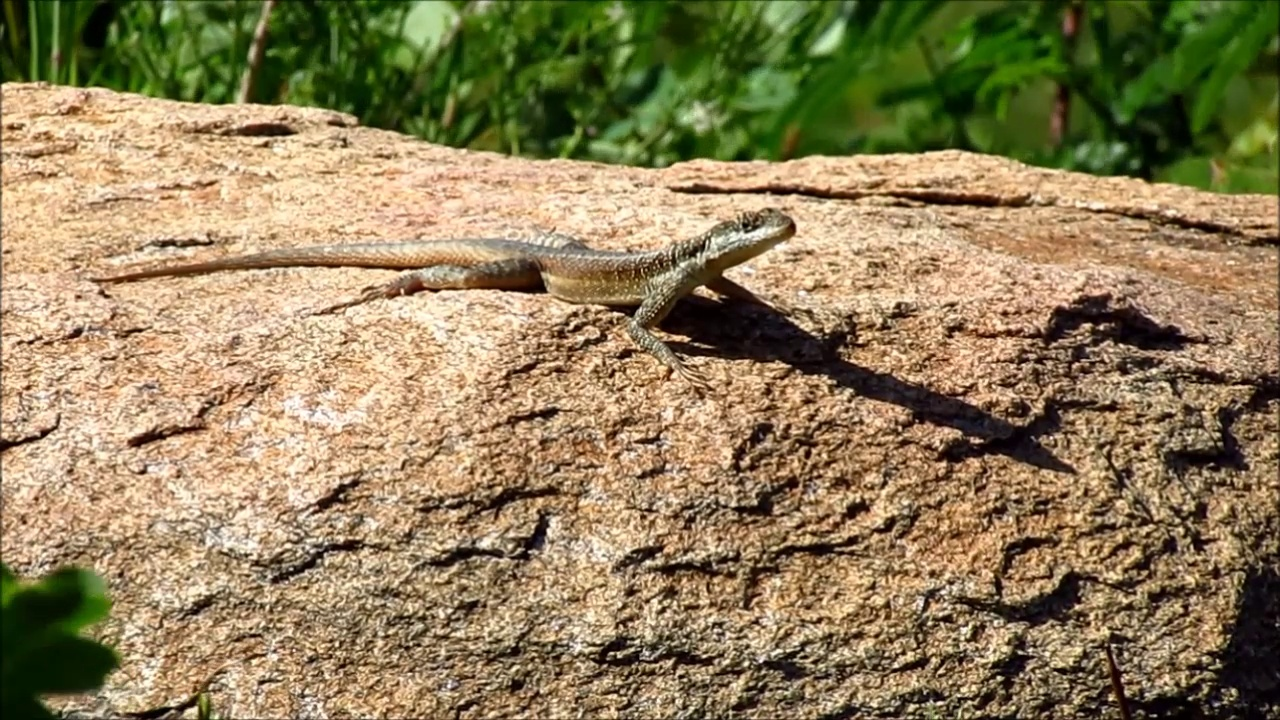body: (80, 225, 715, 395)
head: (701, 206, 797, 267)
